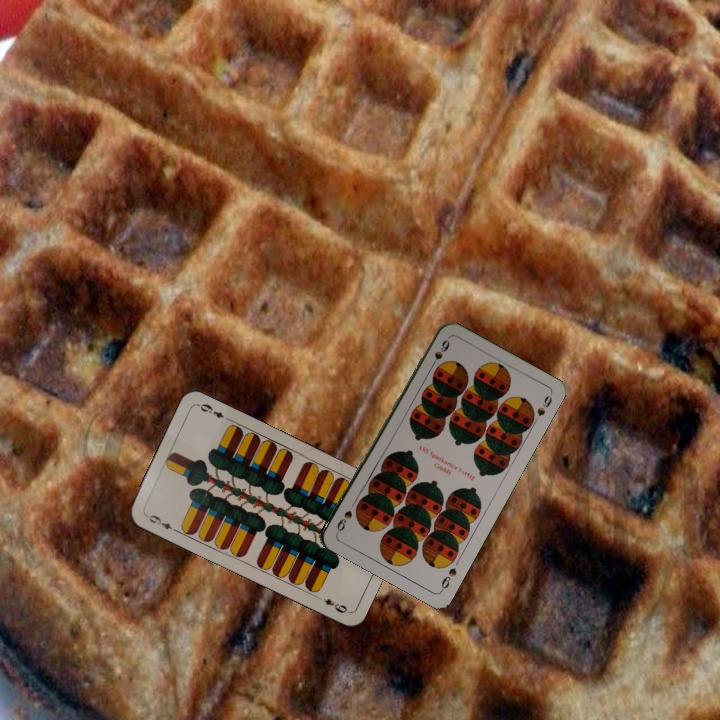E9: (142, 511, 180, 534)
S9: (426, 335, 452, 372), (437, 564, 459, 594)
